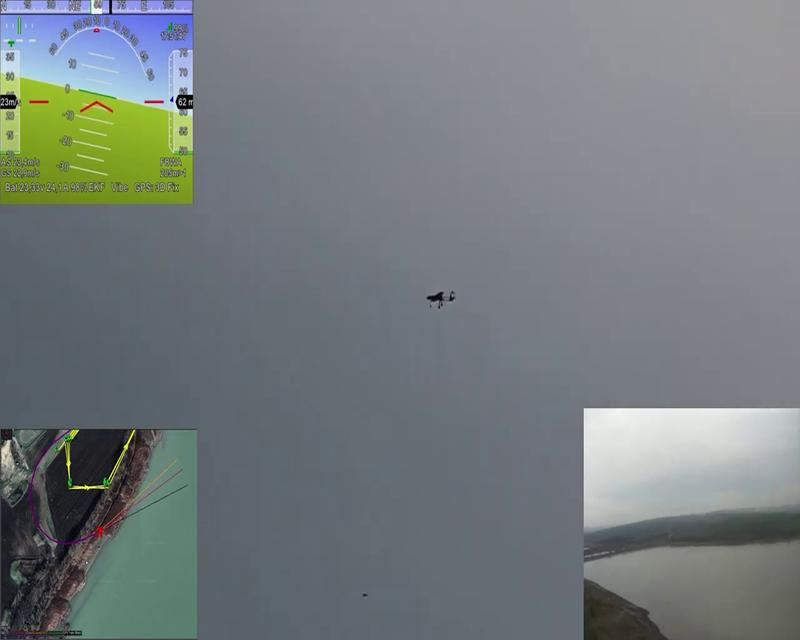UAV: (426, 290, 456, 308)
